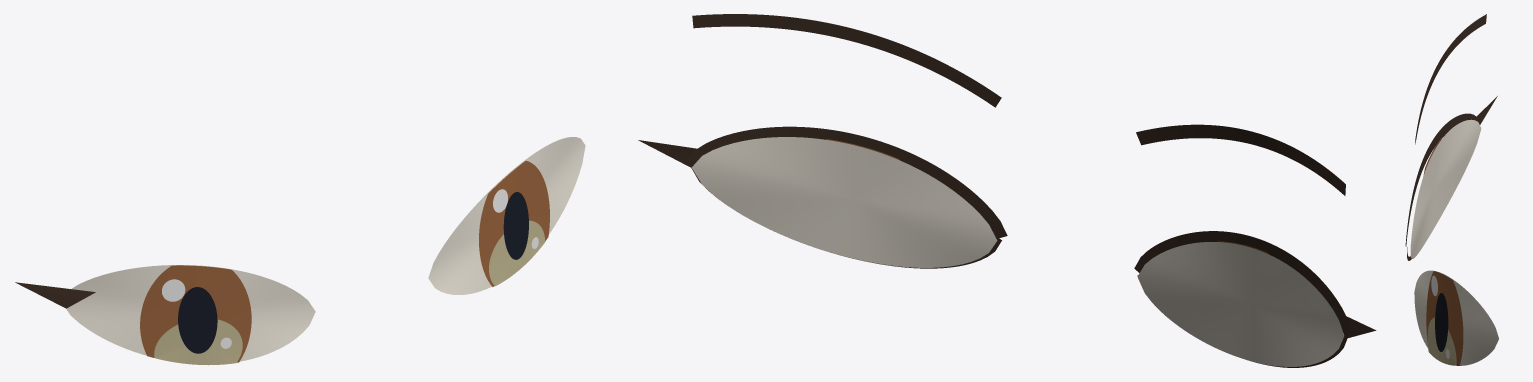
The picture shows the model from 3 angles, left to right: view 1: azimuth 30°, elevation 25°; view 2: azimuth 150°, elevation 25°; view 3: azimuth 270°, elevation 25°; orthographic projection. The views are drawn at different scales.
Parts seen in each view (by area): view 1: Eye_White_-1, Eye_White_1, Eye_Iris_-1, Eye_Iris_1, Eye_Iris_Light_-1, Eye_Pupil_-1, Eye_Iris_Light_1, Eye_Pupil_1, Eye_LashWing_-1; view 2: Eye_White_1, Eye_White_-1, Eyebrow_1, Eye_UpperLid_1, Eyebrow_-1, Eye_UpperLid_-1, Eye_LashWing_1; view 3: Eye_White_-1, Eye_White_1, Eye_Iris_1, Eye_UpperLid_-1, Eyebrow_-1, Eye_Iris_Light_1, Eye_Pupil_1, Eye_LashWing_-1, Eye_Glint_1_0.
Boxes of the visible parts, x1,y1,x2,y2 form: Eye_White_-1: (66,265,315,361); Eye_White_1: (428,137,585,294); Eye_Iris_-1: (140,265,251,362); Eye_Iris_1: (479,161,549,286); Eye_Iris_Light_-1: (154,319,242,365); Eye_Pupil_-1: (178,287,217,353); Eye_Iris_Light_1: (489,220,544,286); Eye_Pupil_1: (503,192,528,259); Eye_LashWing_-1: (15,282,95,308); Eye_White_1: (691,137,997,267); Eye_White_-1: (1137,242,1344,366); Eyebrow_1: (692,14,1001,107); Eye_UpperLid_1: (687,126,1007,238); Eyebrow_-1: (1136,124,1345,195); Eye_UpperLid_-1: (1134,231,1351,333); Eye_LashWing_1: (638,140,711,167); Eye_White_-1: (1410,119,1481,258); Eye_White_1: (1414,270,1498,365); Eye_Iris_1: (1426,271,1463,365); Eye_UpperLid_-1: (1405,113,1479,246); Eyebrow_-1: (1415,14,1486,144); Eye_Iris_Light_1: (1427,317,1456,365); Eye_Pupil_1: (1435,293,1448,351); Eye_LashWing_-1: (1473,96,1497,124); Eye_Glint_1_0: (1431,275,1437,296).
Size of the model in its own units: 0.4435 by 0.1548 by 0.0828.
